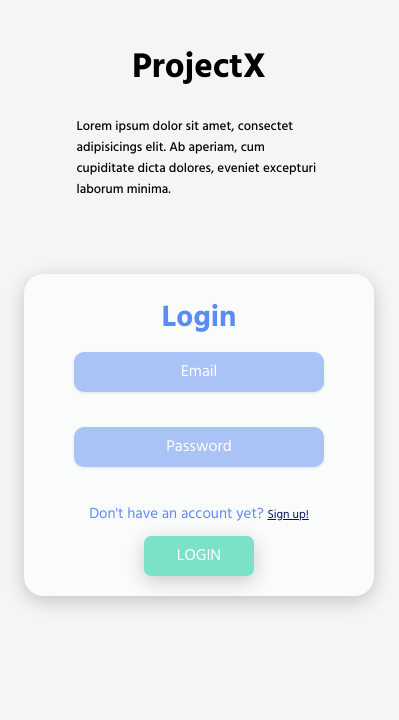
it: AuthForm testing › after click on "Signup Link" the button should have "Signup" text
The width and height of the screenshot is (399, 720).
Step 1. Click the element with test id "signup-trigger" → (288, 515), box [267,507,309,523]
(page scrolled)
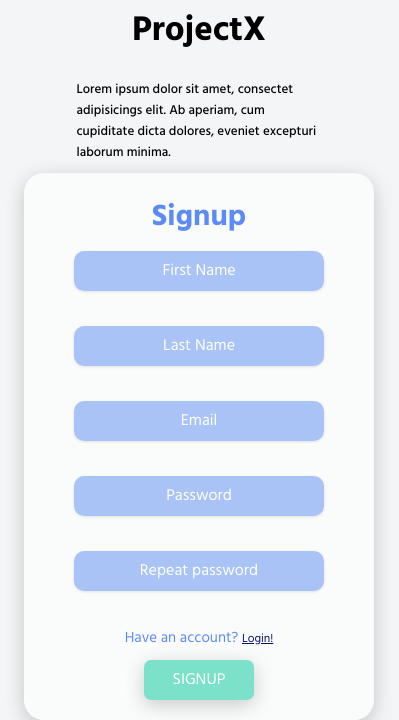
Expected: the element with test id "form-button" reads "Signup", [144,660,254,700]
